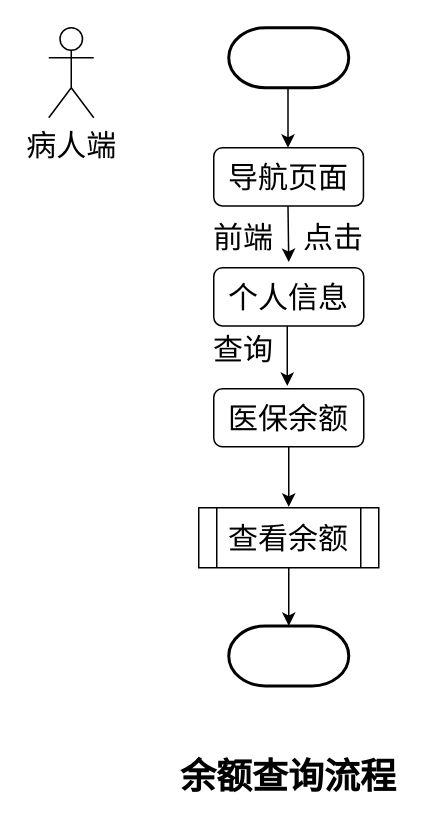
Some shapes in this 434 by 833 pixel diagram are drawn without their labels. Each missing label, with the centre of its shape:
"开始" belongs at point (288, 57).
"结束" belongs at point (288, 655).
